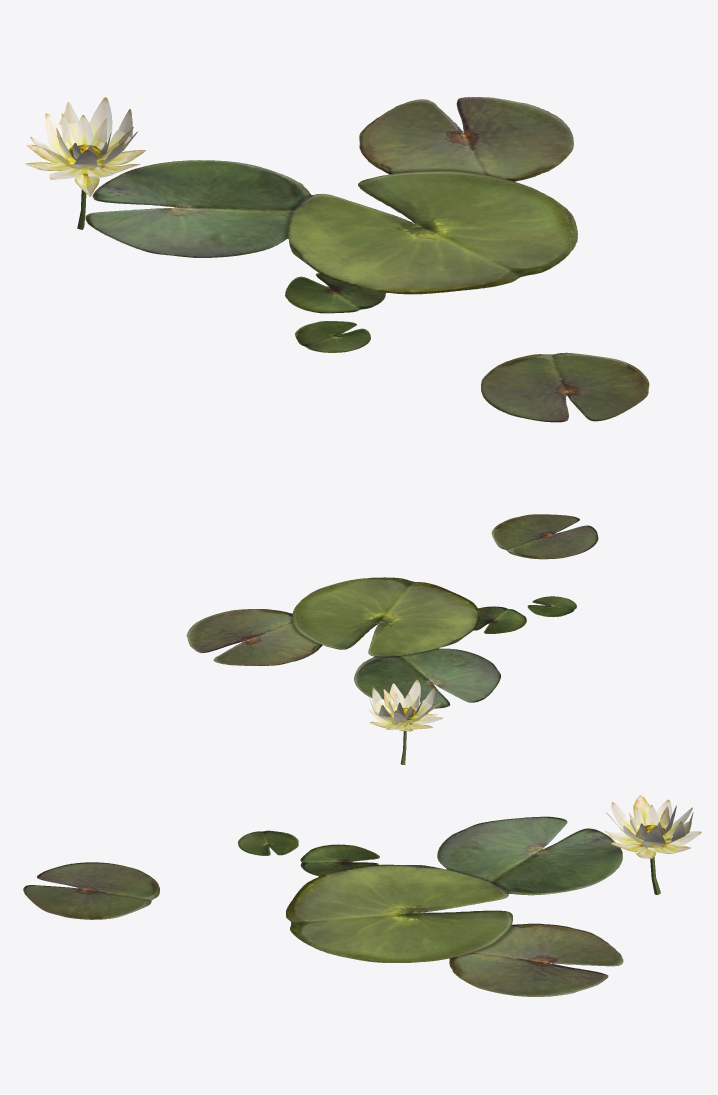
Rendered from bg_anh_foliage_el_u22_sm_old.FBX.
3 renders of one model, top to bottom at view 1: azimuth 30°, elevation 25°; view 2: azimuth 150°, elevation 25°; view 3: azimuth 270°, elevation 25°, orthographic. The views are drawn at different scales.
Parts seen in each view (by area): view 1: bg_anh_foliage_el_u22_sm_old; view 2: bg_anh_foliage_el_u22_sm_old; view 3: bg_anh_foliage_el_u22_sm_old.
Boxes of the visible parts, box(x1,y1,x2,y2) form: bg_anh_foliage_el_u22_sm_old: box(25, 97, 649, 422); bg_anh_foliage_el_u22_sm_old: box(186, 514, 598, 764); bg_anh_foliage_el_u22_sm_old: box(23, 795, 701, 996).
Bounding box in the file's own units: 128 × 19.98 × 139.
